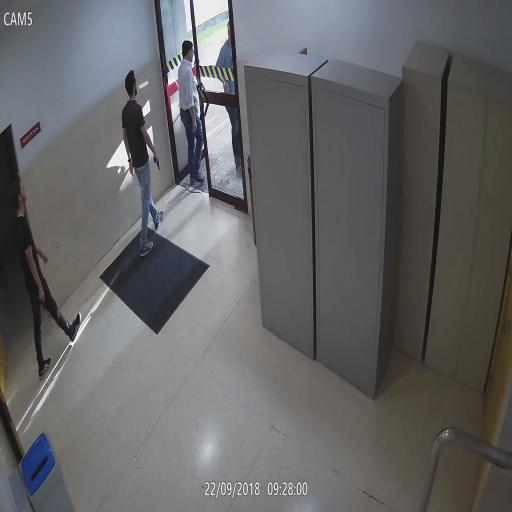Handgun: (36, 286, 48, 312), (152, 154, 161, 170)
